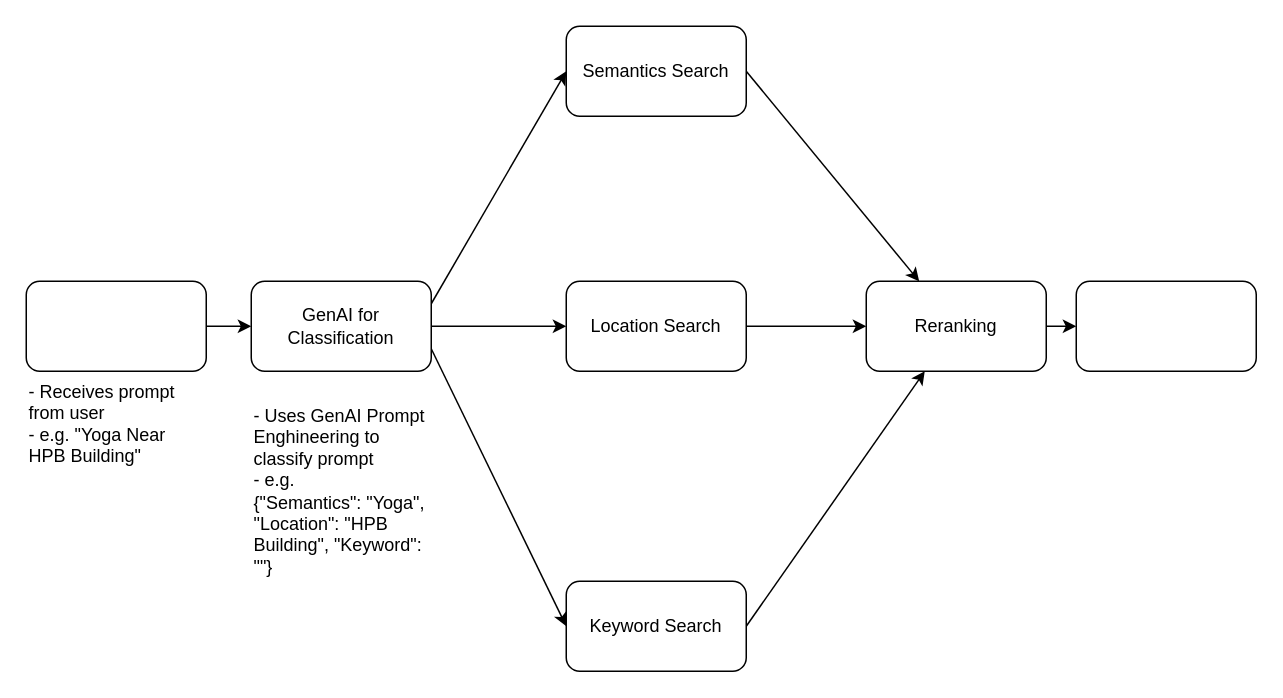
The diagram is 1283 pixels wide and 698 high, and some of its shapes have lost their labels. Each missing label, with the box of its shape:
Output: (1075, 280, 1256, 371)
Search Prompt: (25, 280, 206, 371)
